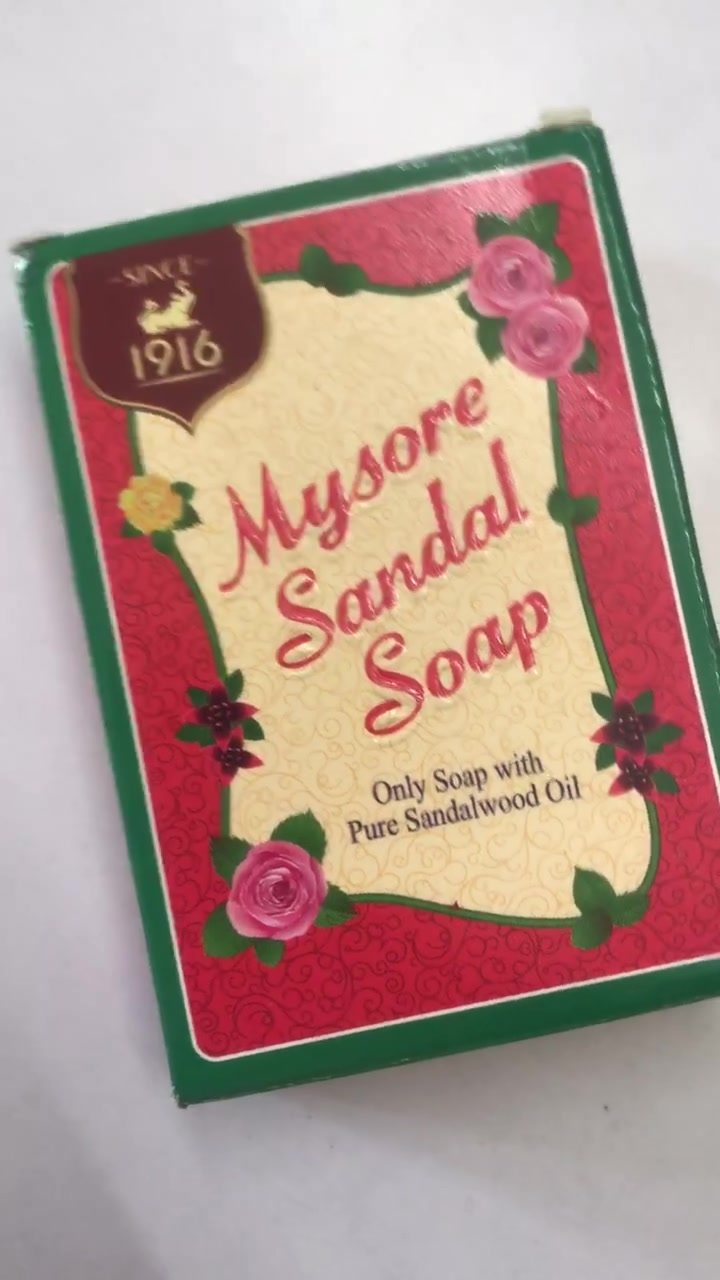mysore sandal soap: (19, 116, 720, 1100)
